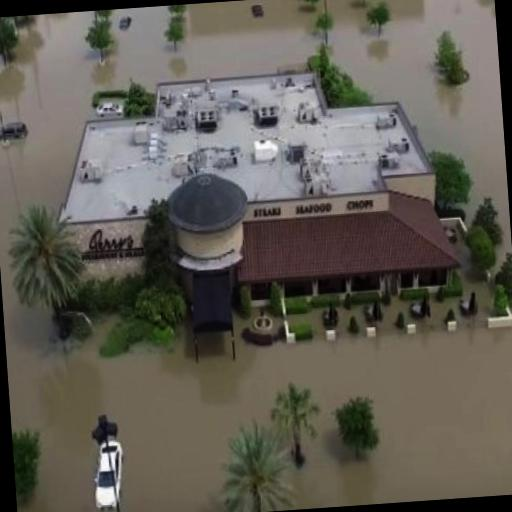flood: (0, 0, 321, 512), (94, 242, 512, 512), (330, 0, 512, 250)
house: (58, 60, 441, 218), (240, 188, 456, 290)
